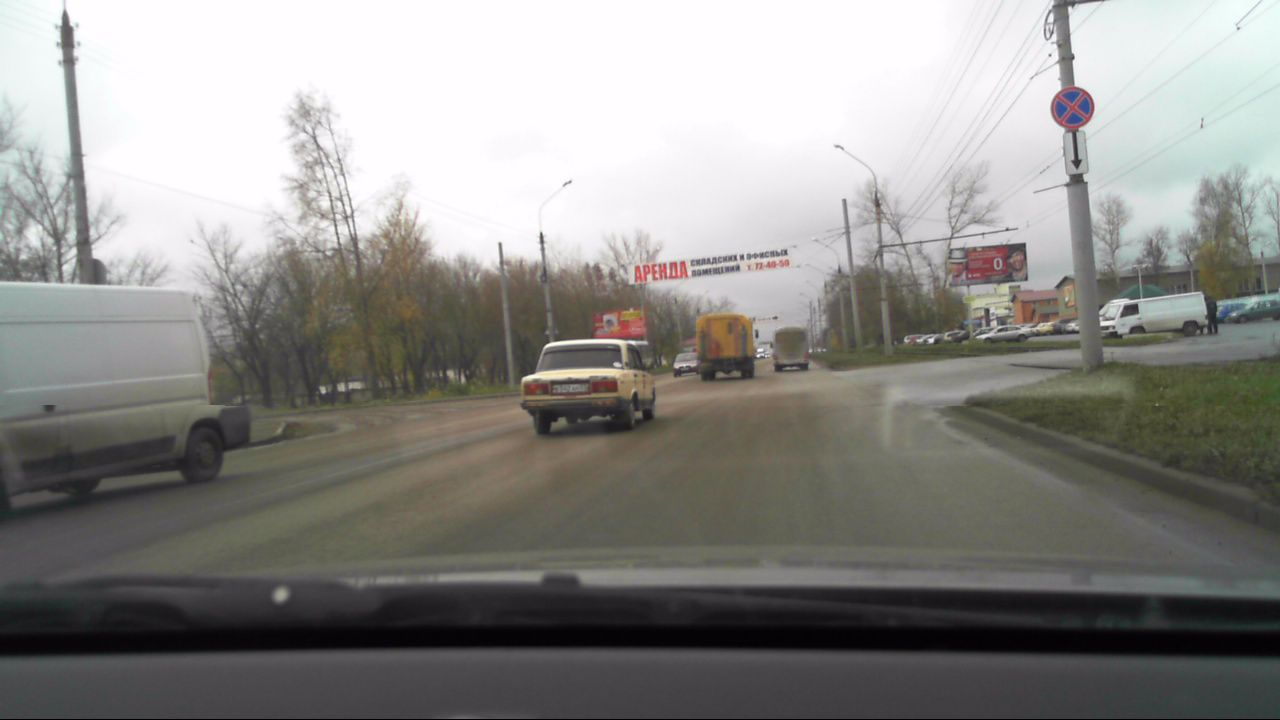No Parking: (1048, 87, 1096, 131)
